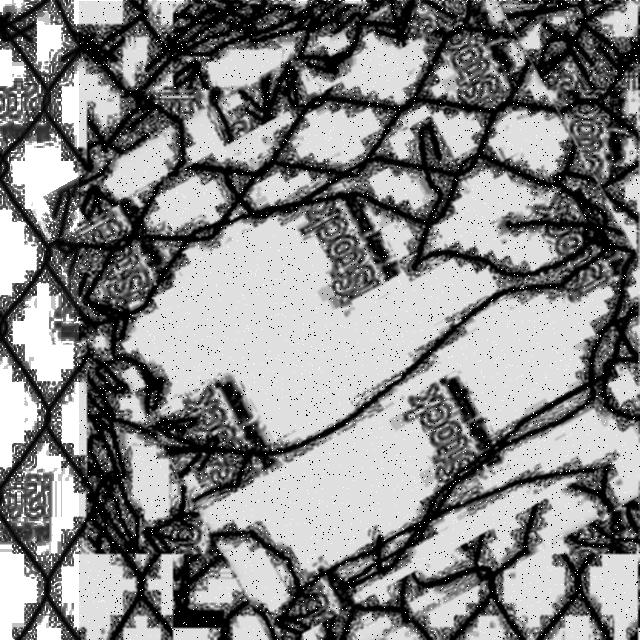anomaly-fence: (79, 1, 640, 640)
